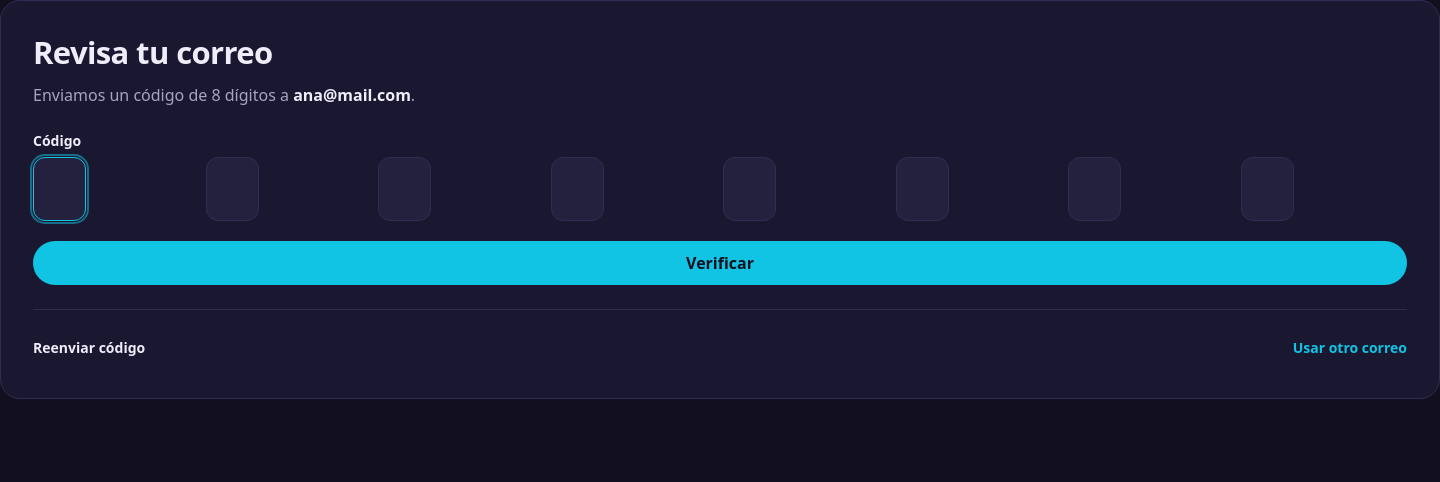
Scenario: VerifyPage › TOO_MANY_REQUESTS al reenviar reinicia la espera y muestra el mensaje
This screenshot has width=1440, height=482.
Click the button "Reenviar código": (89,348) top-left (17, 330), bottom-right (161, 366)
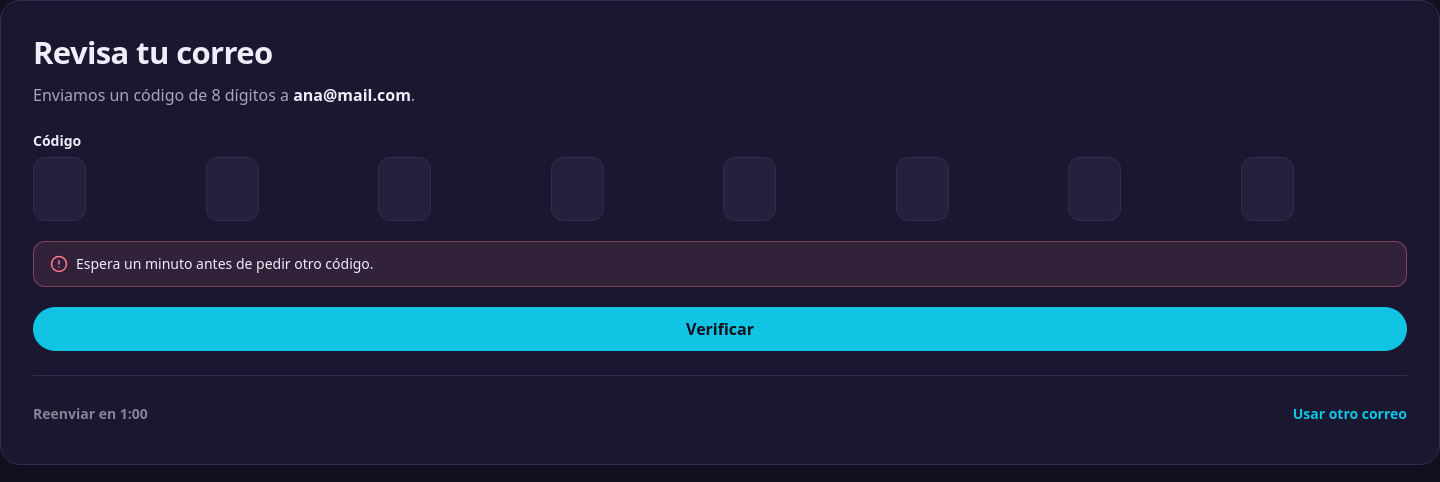
Expected: the message reads "Espera un minuto antes de pedir otro código.", top-left (76, 254), bottom-right (374, 273)
Expected: the button "Reenviar en 1:00" is disabled, top-left (17, 396), bottom-right (164, 432)
